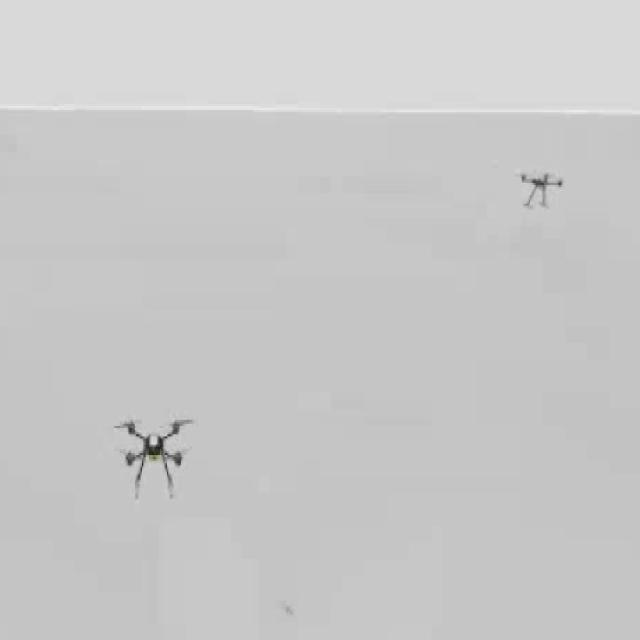drone: (118, 414, 195, 496), (512, 164, 570, 212)
